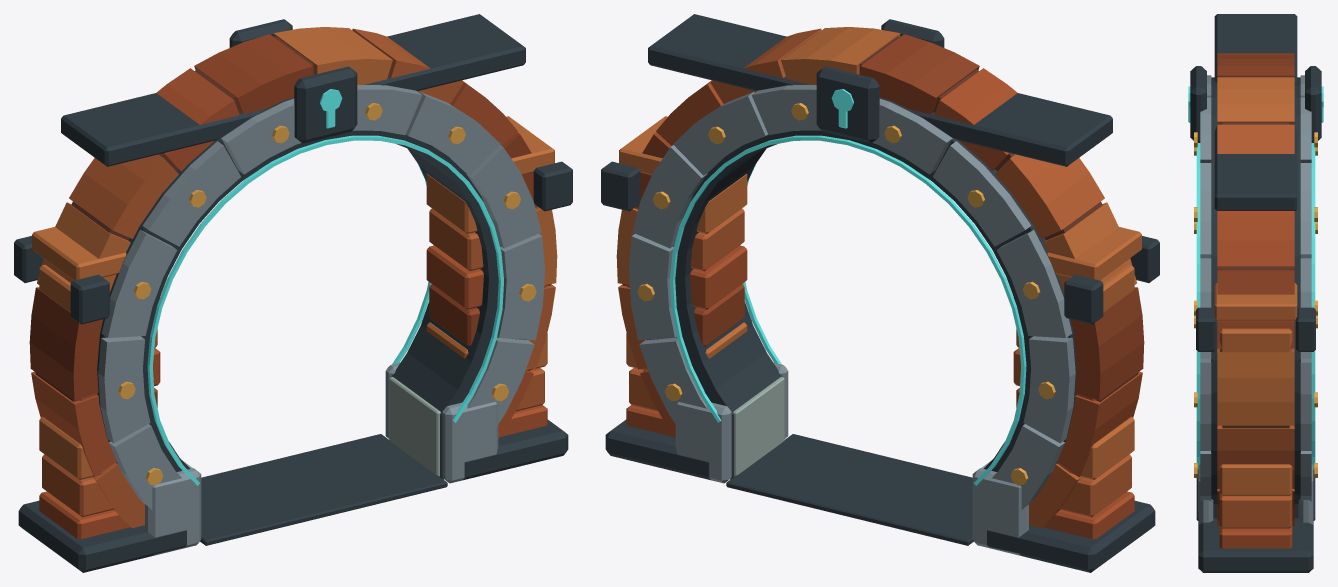
Rendered from wsc-arch-007-training-vault-portal.glb.
3 renders of one model, left to right at view 1: azimuth 30°, elevation 25°; view 2: azimuth 150°, elevation 25°; view 3: azimuth 270°, elevation 25°, orthographic. The views are drawn at different scales.
Parts seen in each view (by area): view 1: Open_Portal_Frame, Masonry_Shell, Lens_And_Keycard_Detail; view 2: Open_Portal_Frame, Masonry_Shell, Lens_And_Keycard_Detail; view 3: Masonry_Shell, Open_Portal_Frame, Lens_And_Keycard_Detail.
Boxes of the visible parts, x1=… form: Open_Portal_Frame: x1=14, y1=14, x2=572, y2=572; Masonry_Shell: x1=29, y1=27, x2=557, y2=539; Lens_And_Keycard_Detail: x1=118, y1=19, x2=536, y2=485; Open_Portal_Frame: x1=601, y1=14, x2=1159, y2=572; Masonry_Shell: x1=616, y1=27, x2=1144, y2=539; Lens_And_Keycard_Detail: x1=637, y1=19, x2=1055, y2=485; Masonry_Shell: x1=1214, y1=53, x2=1297, y2=548; Open_Portal_Frame: x1=1196, y1=14, x2=1315, y2=572; Lens_And_Keycard_Detail: x1=1188, y1=66, x2=1323, y2=477.
Bounding box in the file's own units: 4.82 × 4.13 × 1.29.
